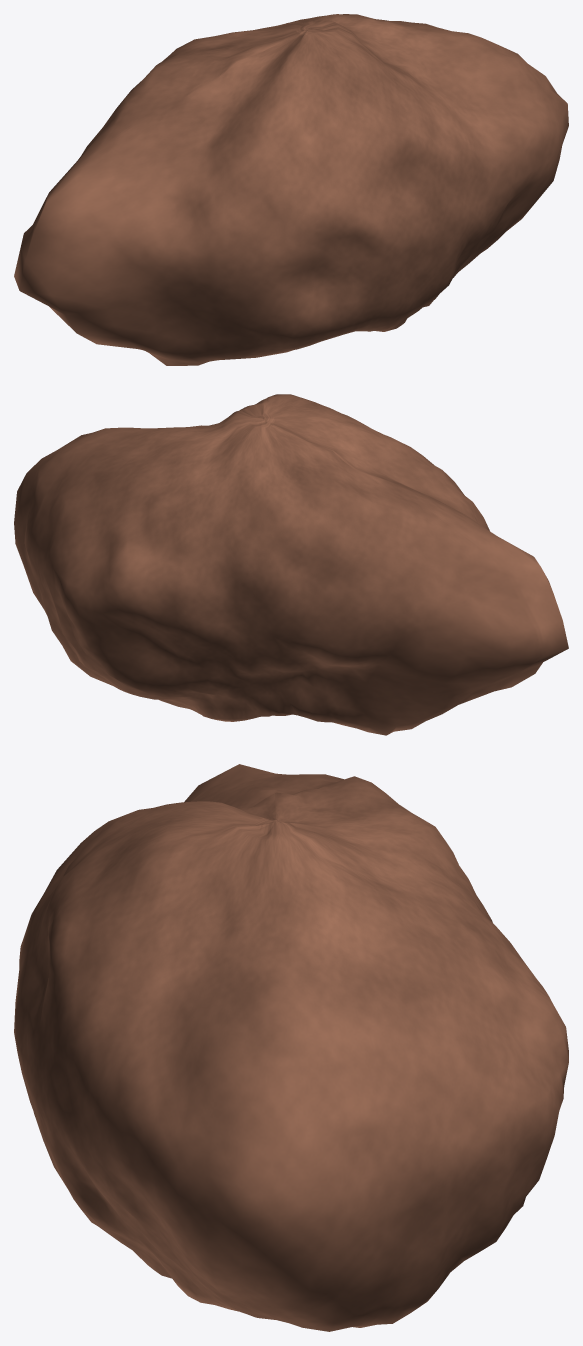
The picture shows the model from 3 angles, top to bottom: view 1: azimuth 30°, elevation 25°; view 2: azimuth 150°, elevation 25°; view 3: azimuth 270°, elevation 25°; orthographic projection. The views are drawn at different scales.
Parts seen in each view (by area): view 1: Amalthea; view 2: Amalthea; view 3: Amalthea.
Boxes of the visible parts, <box> form: Amalthea: <box>14,14,568,365</box>; Amalthea: <box>14,394,568,735</box>; Amalthea: <box>14,764,568,1331</box>.
Bounding box in the file's own units: 267 × 139 × 157.
1 material, 1 textured.
